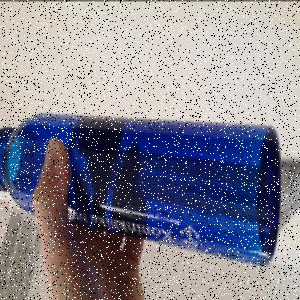Plastic-bottle: (2, 111, 284, 270)
